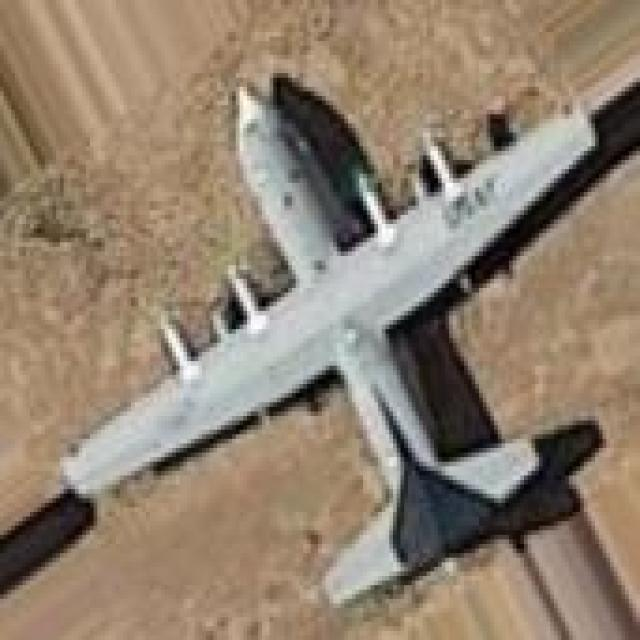C-130_TopDown: (57, 76, 602, 603)
